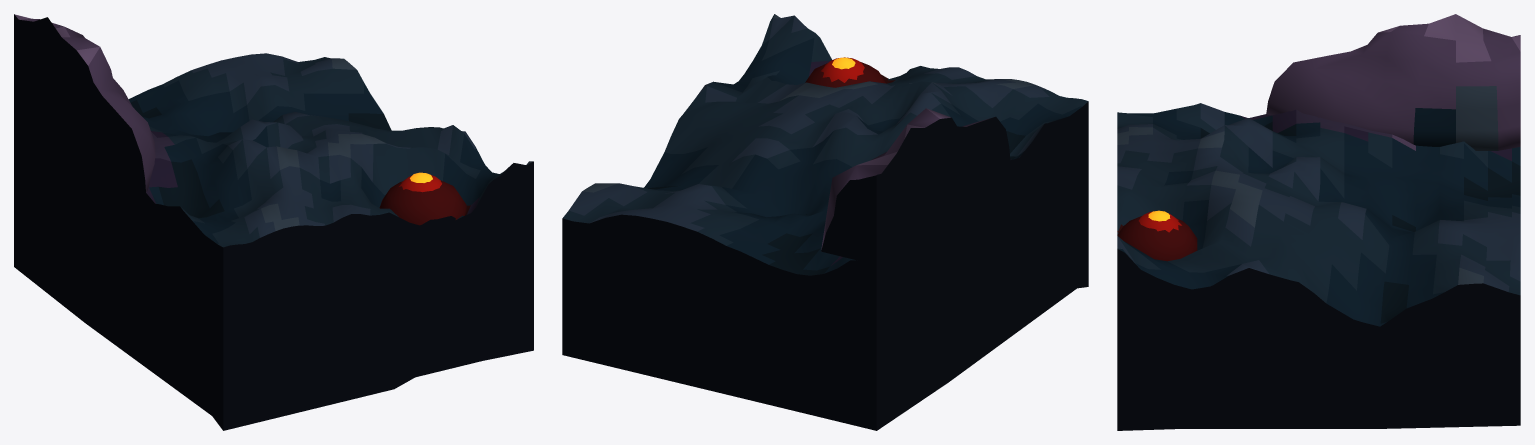
The model's file is newshn-83.glb.
3 renders of one model, left to right at view 1: azimuth 30°, elevation 25°; view 2: azimuth 150°, elevation 25°; view 3: azimuth 270°, elevation 25°, orthographic. The views are drawn at different scales.
Parts seen in each view (by area): view 1: newshn-83; view 2: newshn-83; view 3: newshn-83.
Part boxes in pixels (bbox=[...]): newshn-83: bbox=[14, 14, 533, 430]; newshn-83: bbox=[562, 14, 1088, 430]; newshn-83: bbox=[1117, 14, 1520, 430].
Bounding box in the file's own units: 2 × 1.76 × 2.33.
